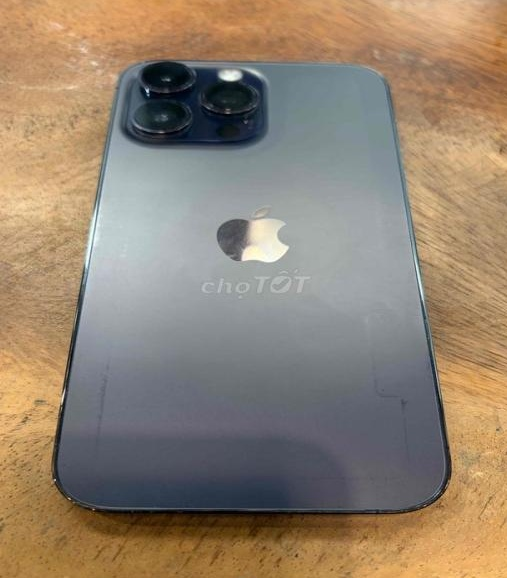scratch: (353, 281, 436, 479), (85, 322, 113, 474)
